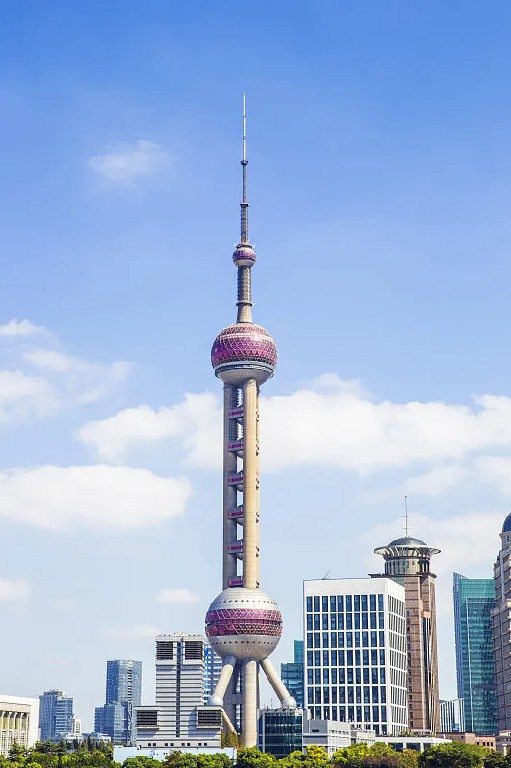Oriental: (204, 92, 302, 750)
